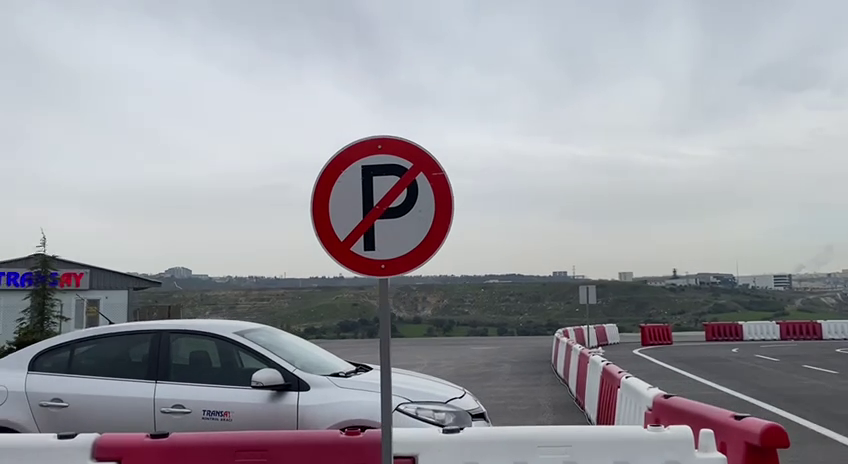noparking: (306, 132, 459, 281)
